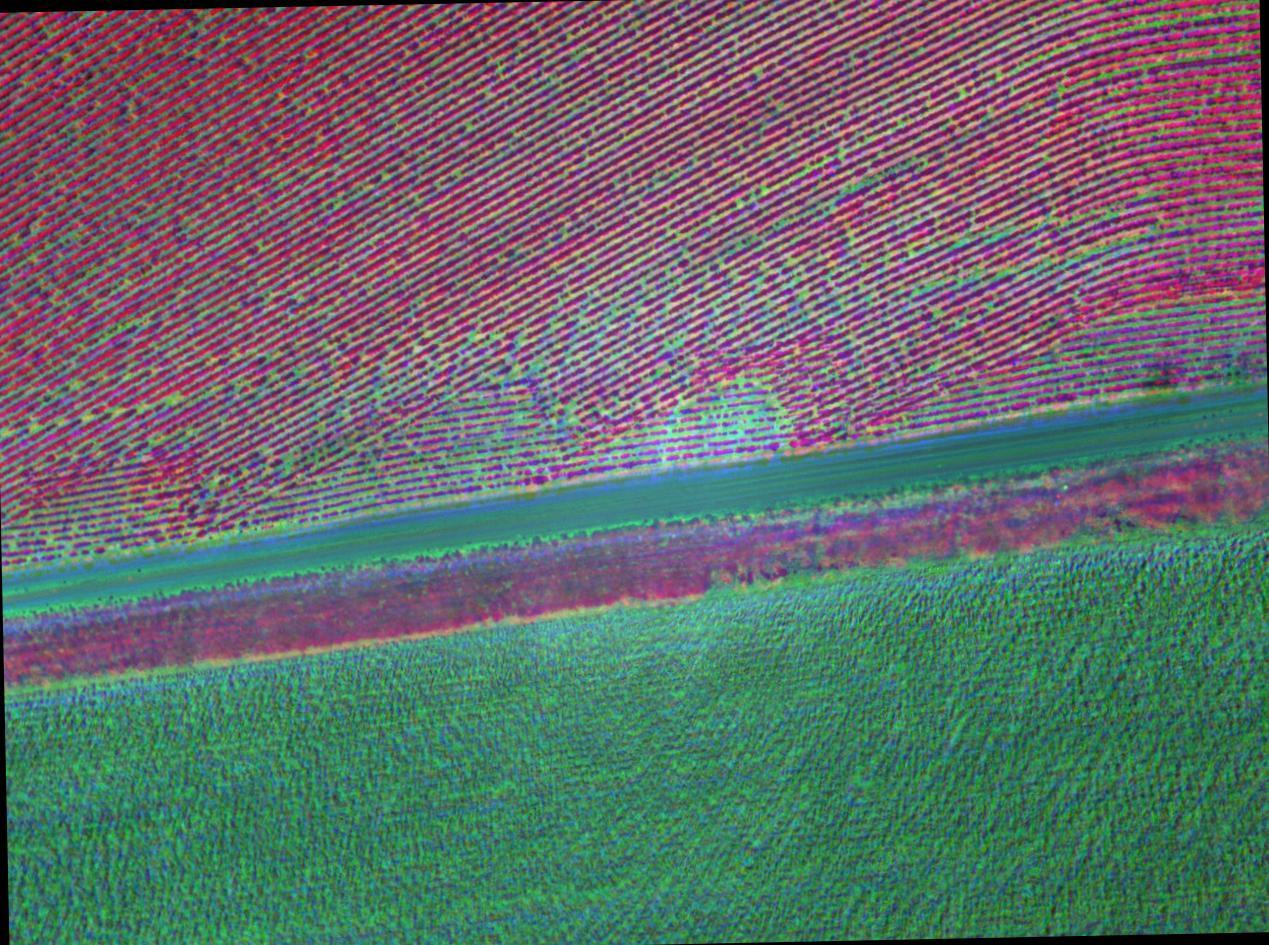dc: (471, 335, 476, 340), (297, 371, 302, 376), (615, 441, 621, 445), (738, 379, 742, 384), (168, 397, 172, 402), (468, 126, 472, 130), (770, 401, 774, 405), (34, 428, 38, 432), (74, 98, 77, 102), (16, 241, 20, 244), (614, 312, 617, 316), (136, 321, 139, 325)
